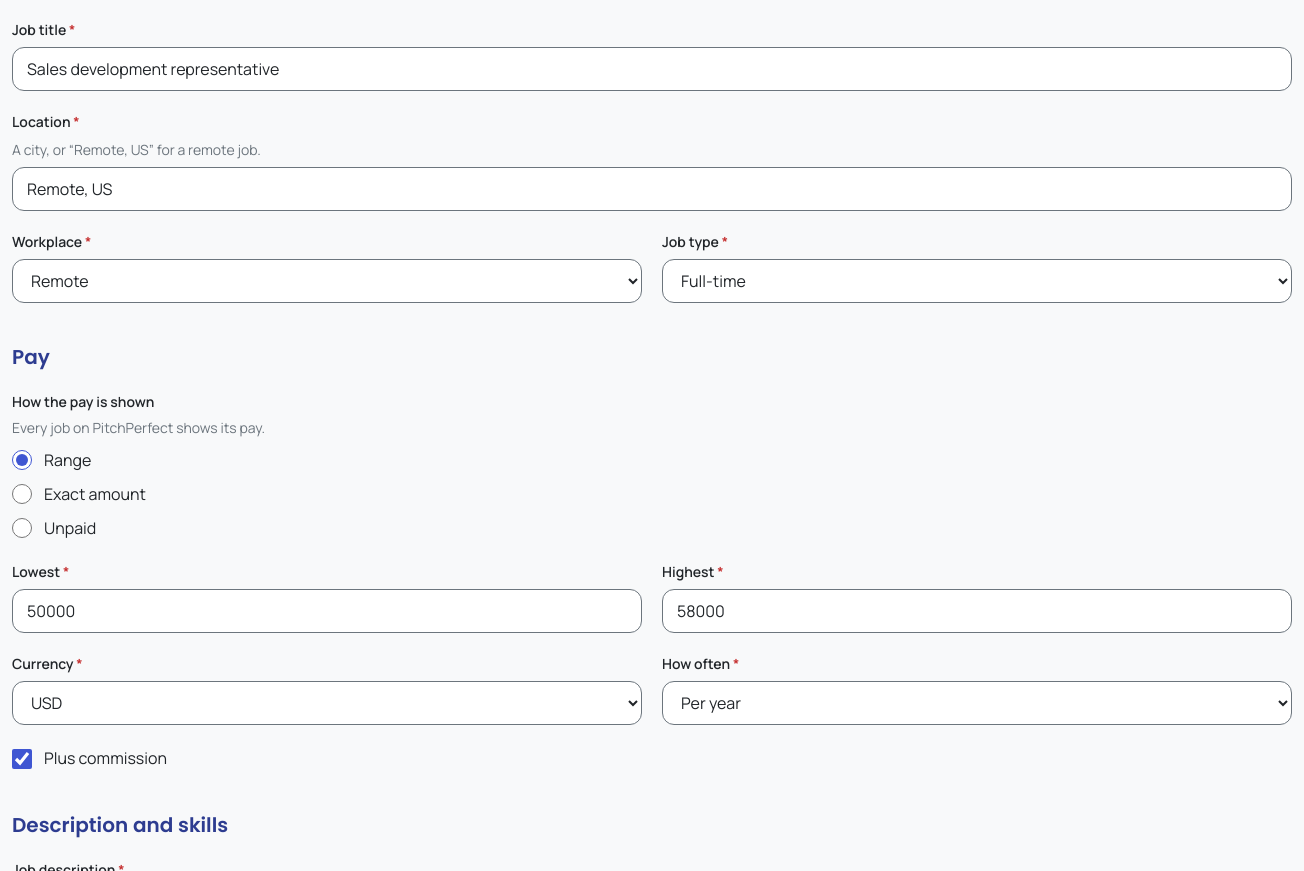
Test: JobForm › asks for a number when the pay isn't one
Replace the text in the field labelled "Lowest *" with "lots" at [327, 611], box x1=12 y1=589 x2=642 y2=633
(page scrolled)
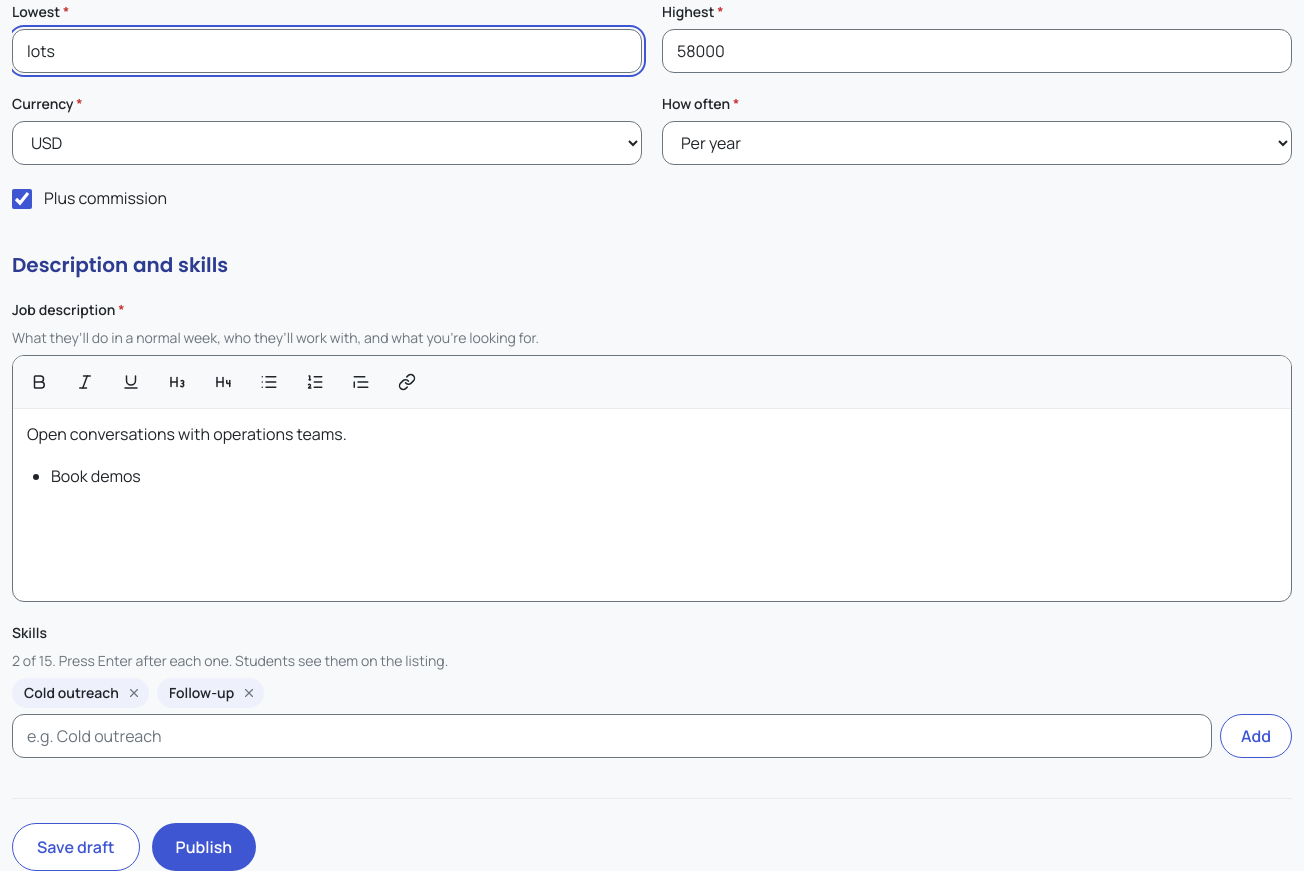
Click the button "Save draft".
click(76, 847)  # box x1=12 y1=823 x2=140 y2=870
(page scrolled)
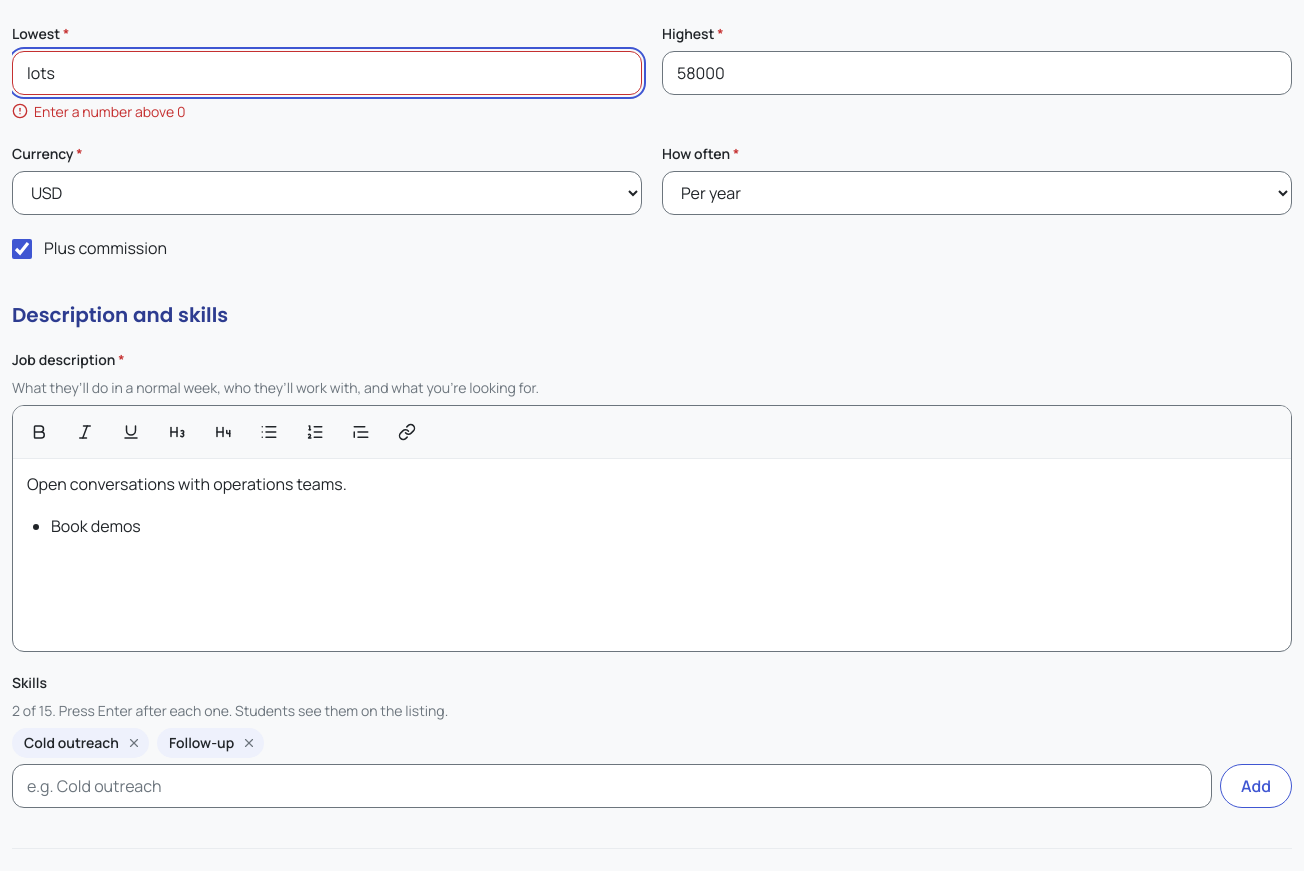
Expected: the text "Enter a number above 0" is shown, x1=34 y1=101 x2=186 y2=123
